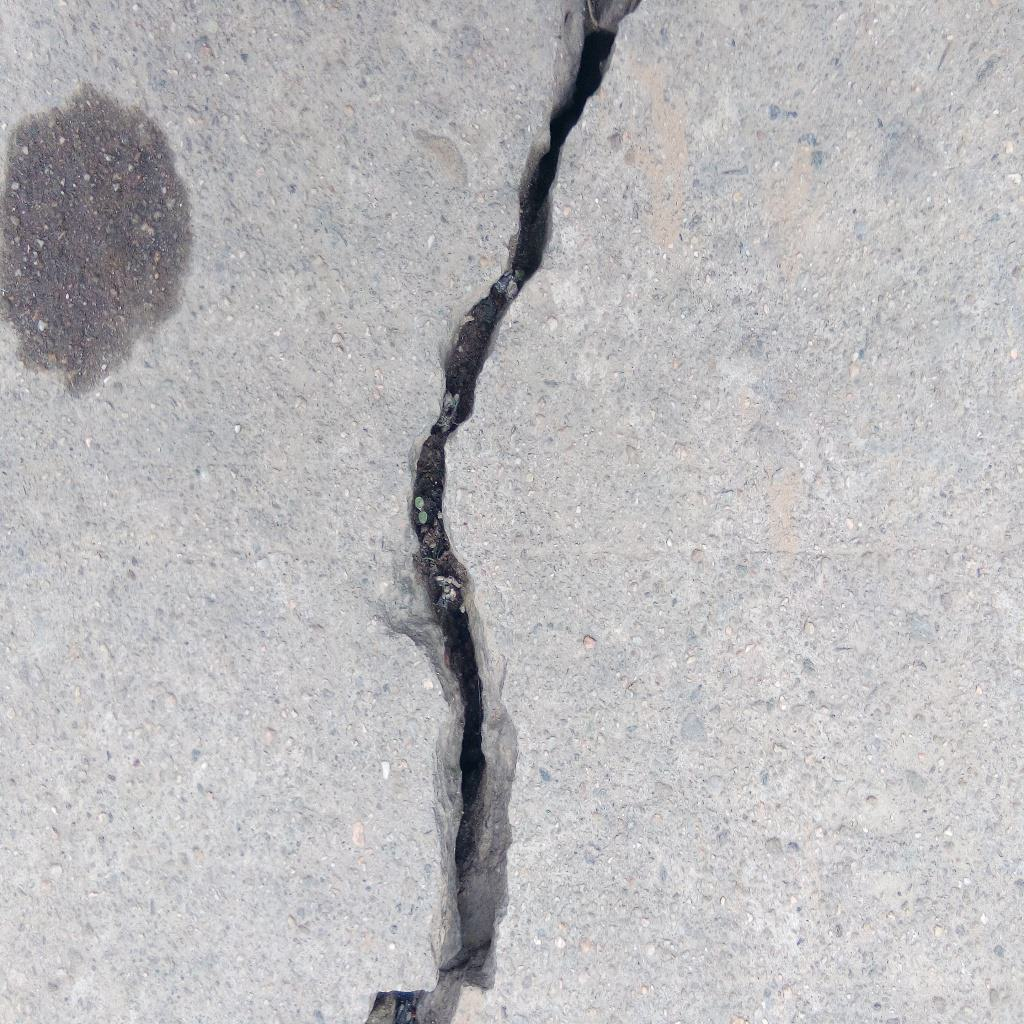Crack: (365, 1, 643, 1024)
